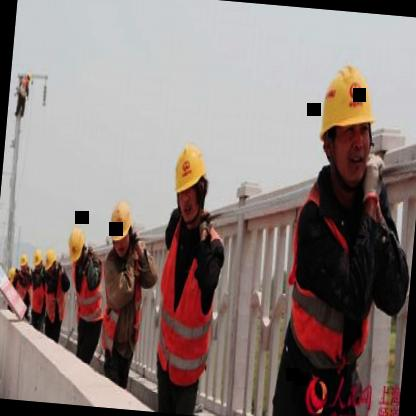helmet: (308, 43, 386, 200), (166, 128, 215, 233), (105, 192, 138, 262), (64, 221, 89, 272), (40, 245, 61, 282), (29, 249, 45, 276), (18, 250, 31, 275)
